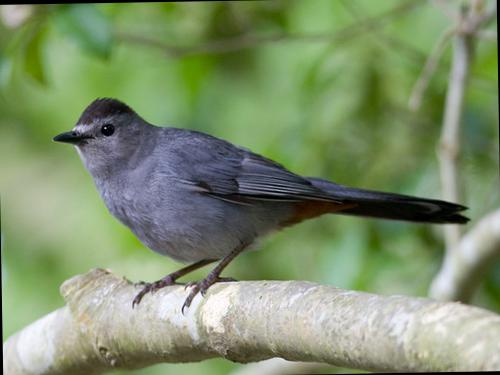bird: (43, 79, 485, 324)
